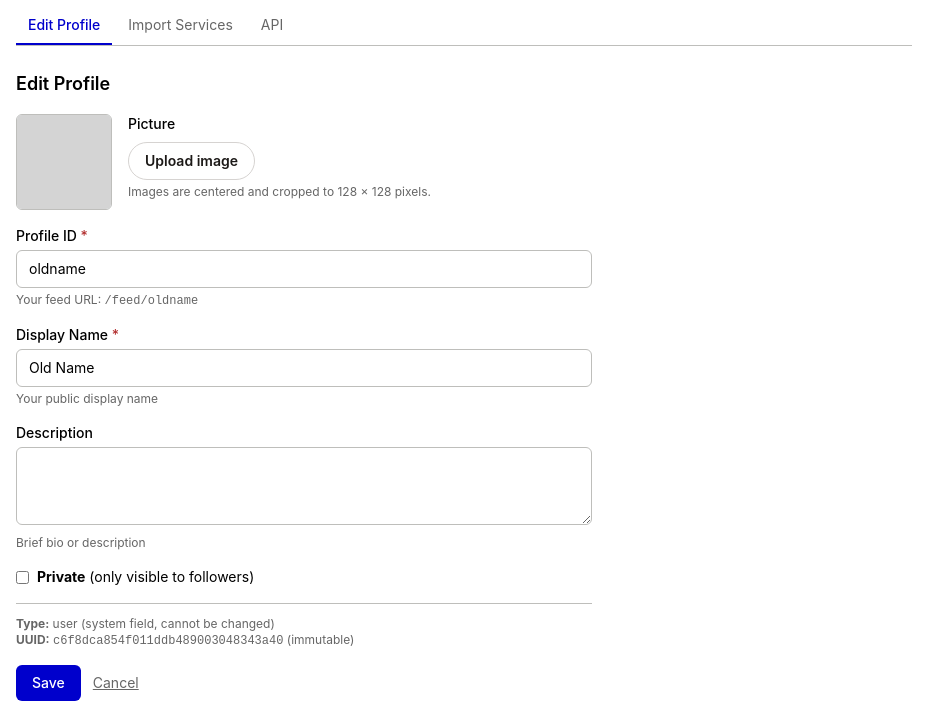
Test: AccountApp › switches tabs client-side and syncs the URL
The image size is (929, 707).
Click the link "Import Services": (181, 24) top-left (128, 16), bottom-right (233, 33)
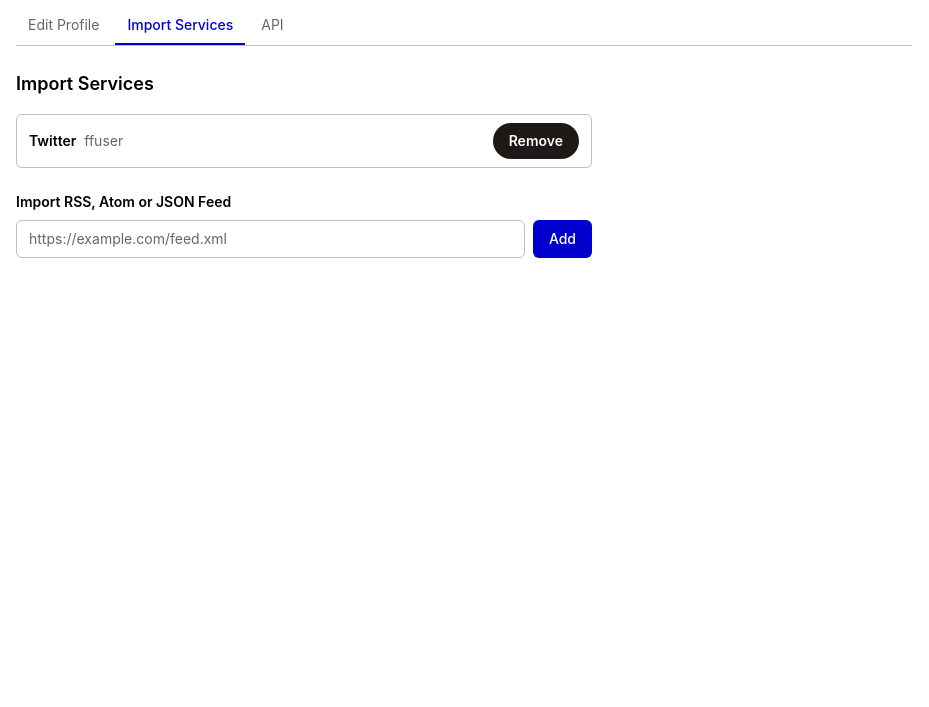
Check: the text "Twitter" is shown, box top-left (29, 132), bottom-right (76, 149)
Click the link "Edit Profile": (64, 24) top-left (28, 16), bottom-right (99, 33)
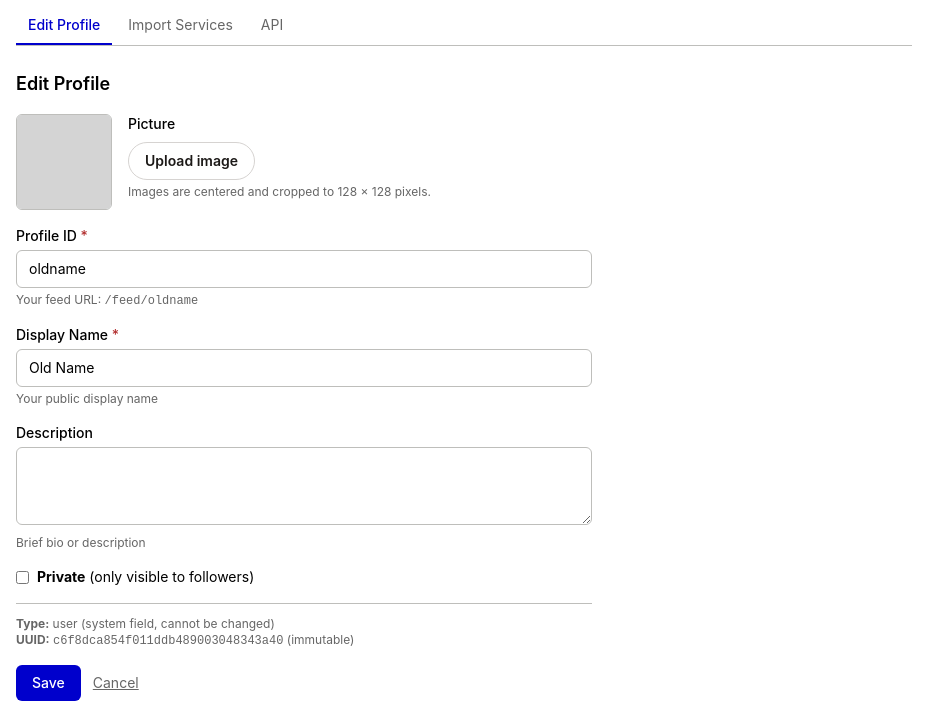
Check: the field labelled "Profile ID *" is shown, box top-left (16, 250), bottom-right (592, 288)
